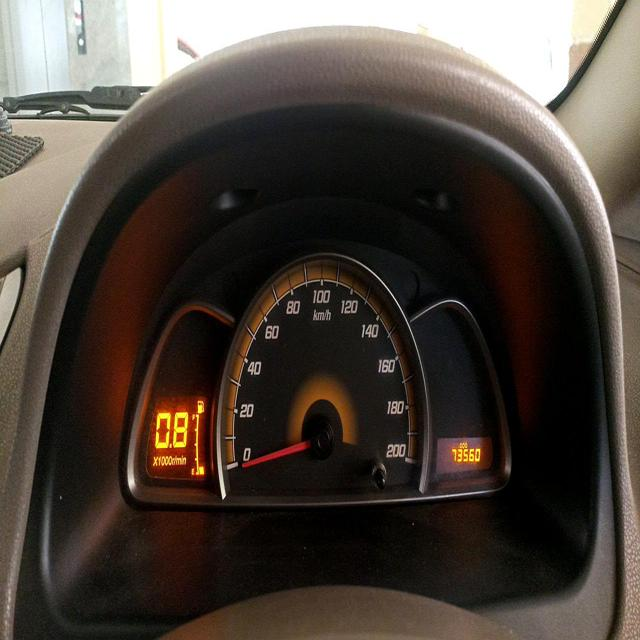odometer: (446, 441, 484, 467)
